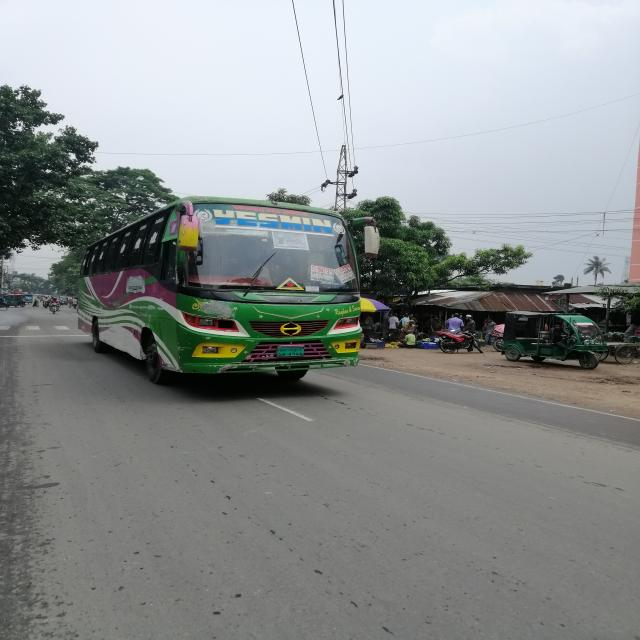Bus: (52, 193, 398, 386)
